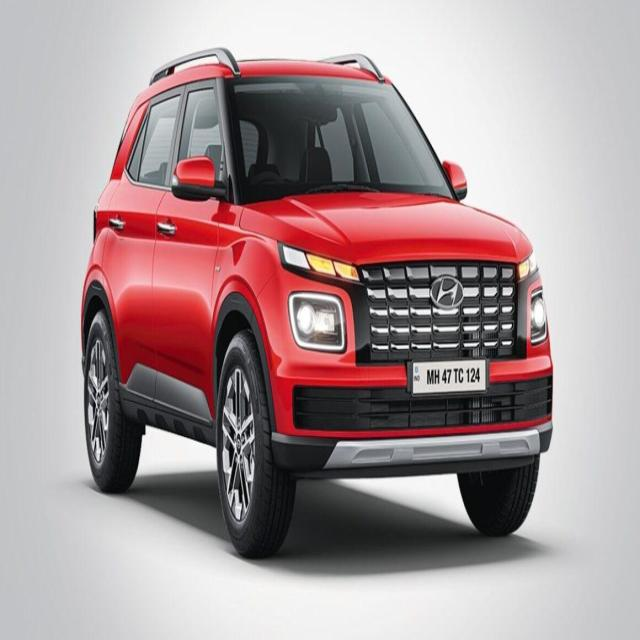cars19: (81, 42, 556, 560)
